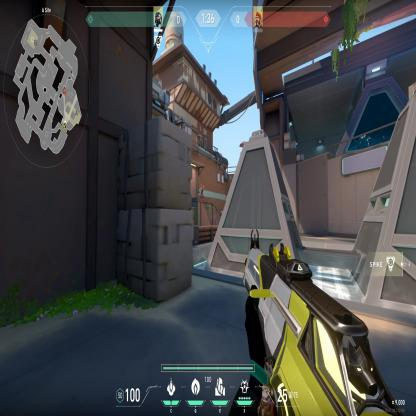enemy: (200, 182, 204, 198)
